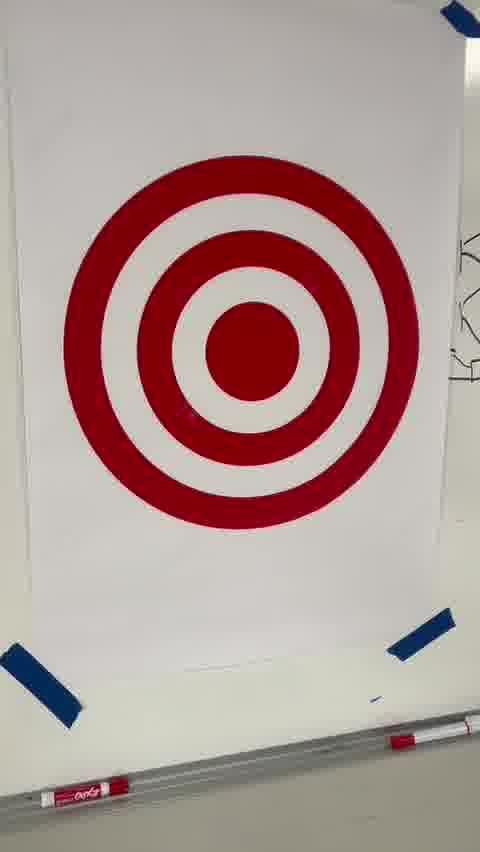target_red: (60, 153, 418, 531)
